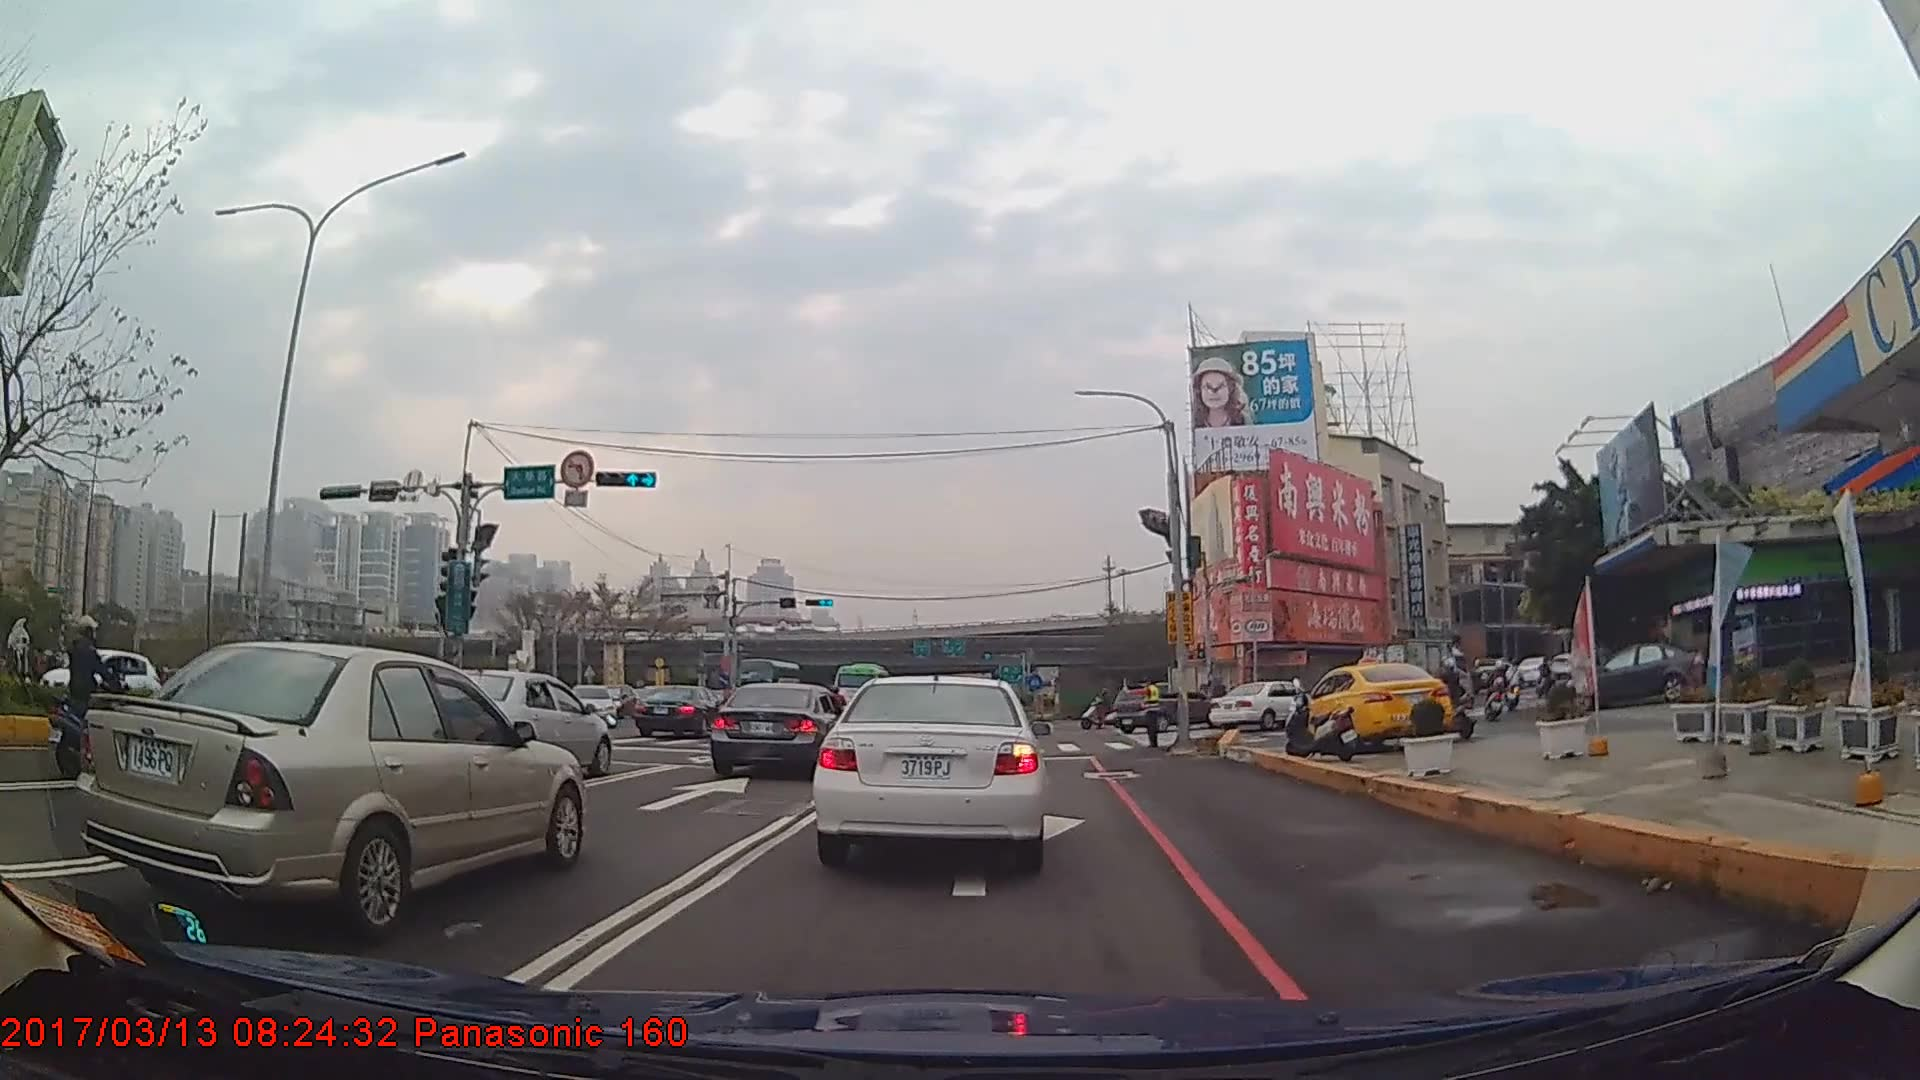pedestrian: (1121, 676, 1164, 750)
rider: (46, 615, 144, 778), (1434, 660, 1476, 741), (1081, 687, 1122, 731), (1486, 658, 1510, 720)
vehicle: (83, 637, 585, 931), (813, 667, 1048, 868), (418, 669, 612, 777), (1293, 660, 1453, 754), (707, 679, 850, 778), (1559, 641, 1706, 708), (1358, 638, 1474, 708), (39, 646, 160, 712), (1112, 679, 1224, 732), (1209, 679, 1318, 730), (635, 685, 728, 739), (833, 658, 893, 714)
